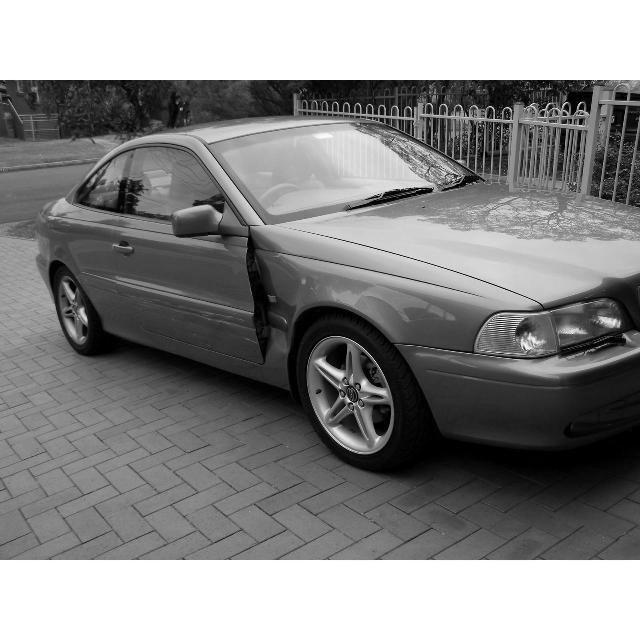doorouter-dent: (123, 231, 257, 360)
fender-dent: (251, 243, 449, 372)
